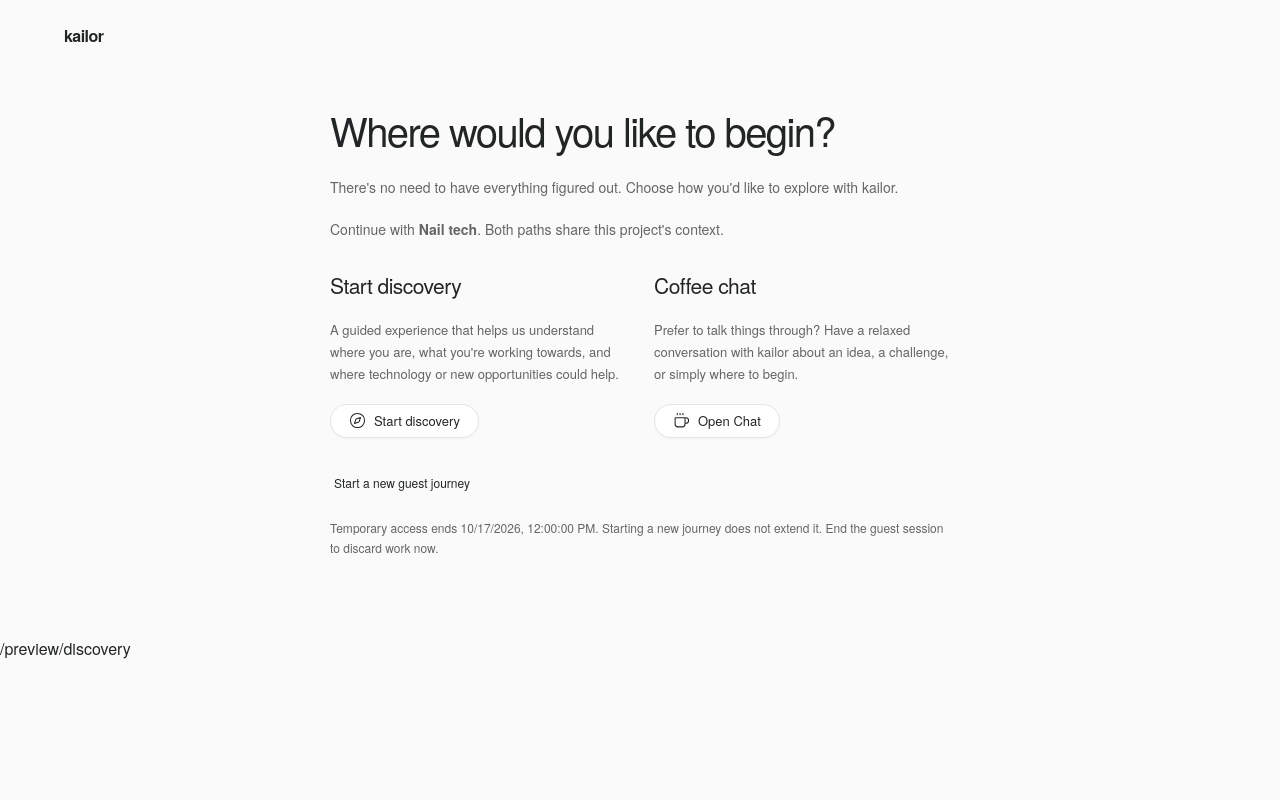
it: requires explicit archive confirmation and navigates to the empty journey
Step 1. Click the button "Start a new guest journey" → (402, 483), box [330, 466, 474, 500]
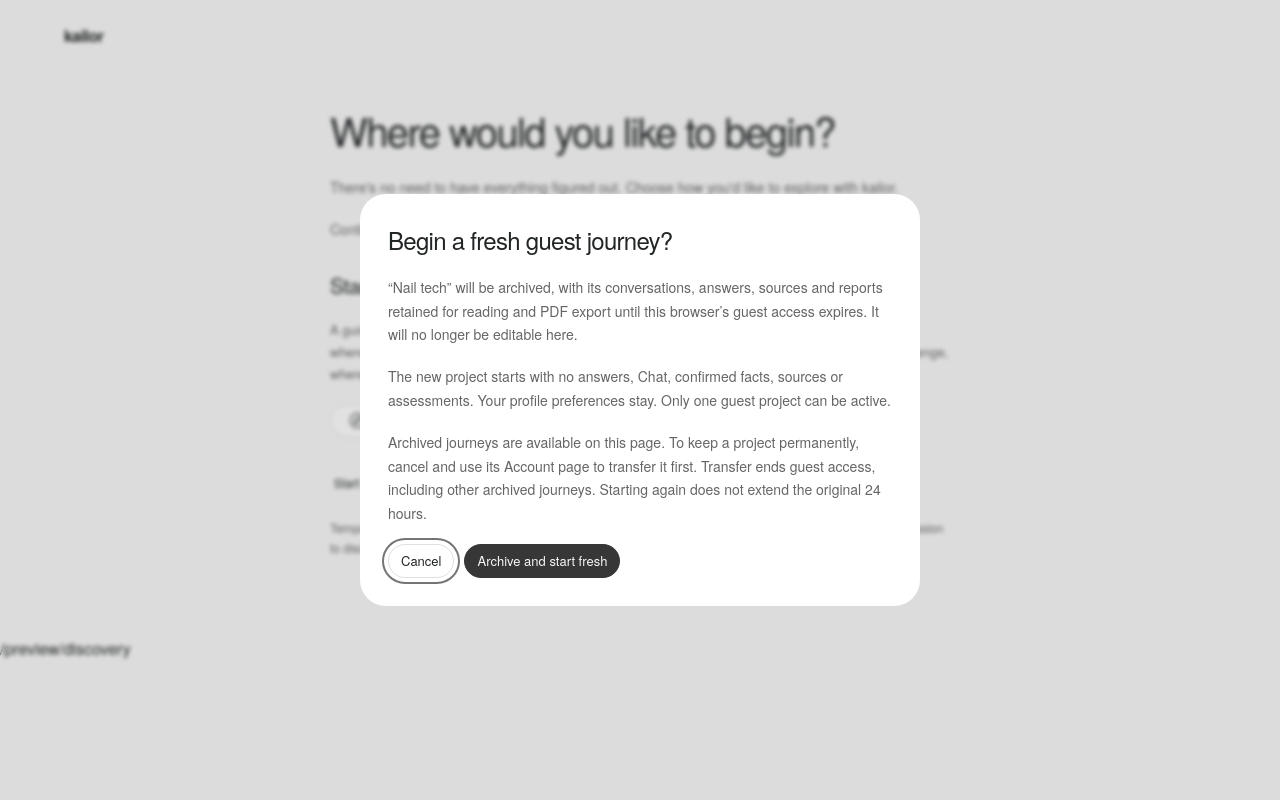
Step 2. Click the button "Archive and start fresh" → (542, 561), box [464, 544, 620, 578]
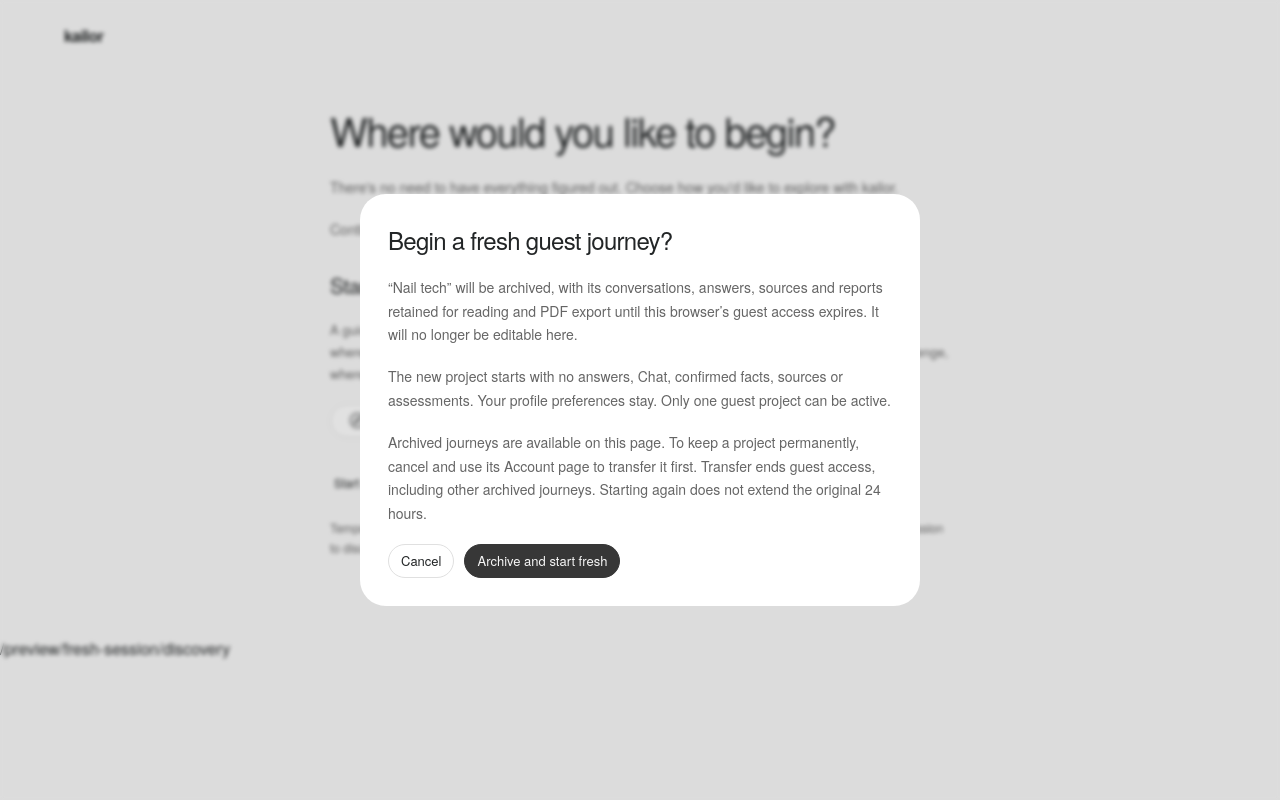
Check: the text named "Location" reads "/preview/fresh-session/discovery", box [0, 636, 230, 660]
